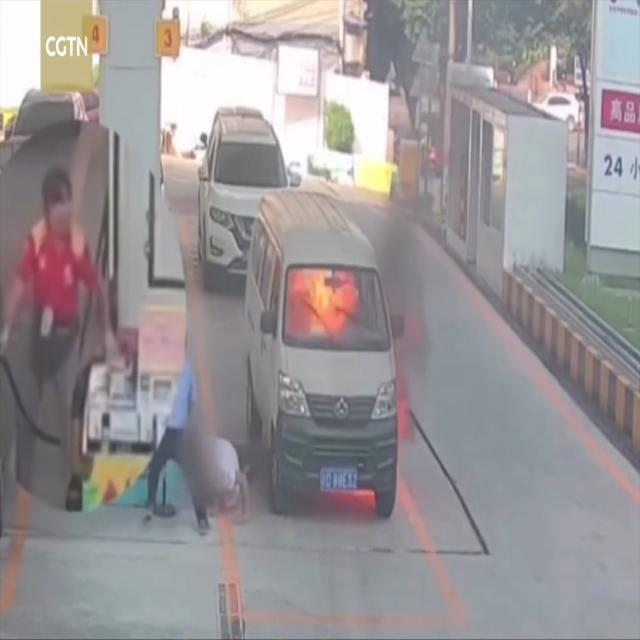fire: (284, 268, 360, 340), (314, 484, 384, 514), (394, 333, 412, 438)
